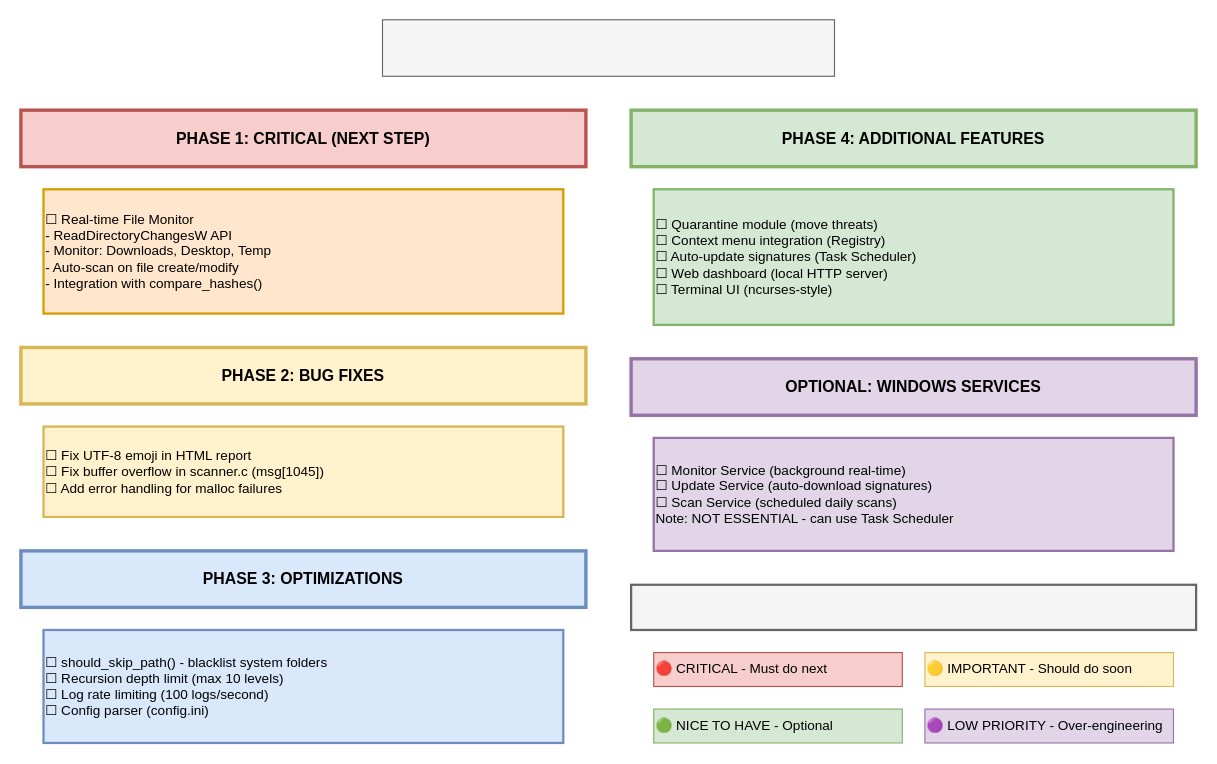
This 1217x764 diagram has some shape labels left out. Each missing label, with the centre of its shape:
BasicAV TODO LIST: (608,47)
PRIORITY LEGEND: (913,607)
